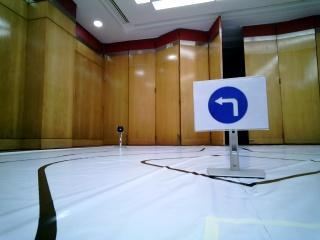left: (196, 83, 265, 130)
